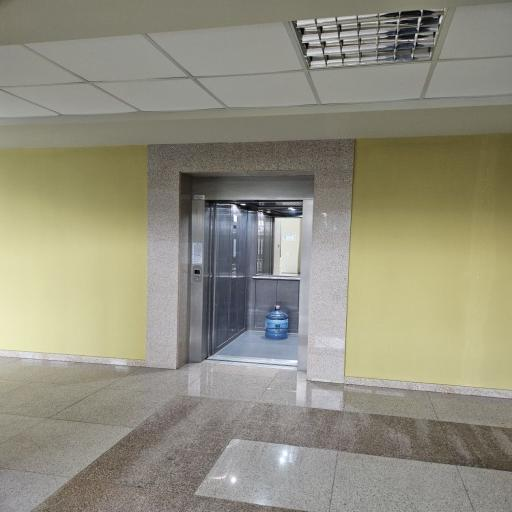closet: (184, 176, 313, 366)
